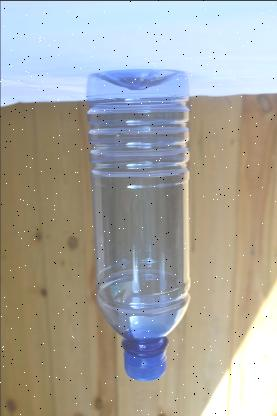Plastic Bottle: (81, 66, 189, 380)
